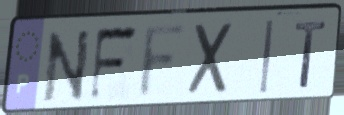F: (134, 20, 192, 103), (87, 23, 141, 106)
I: (258, 18, 277, 97)
N: (41, 27, 94, 106)
T: (292, 18, 329, 91)
X: (186, 19, 238, 100)
